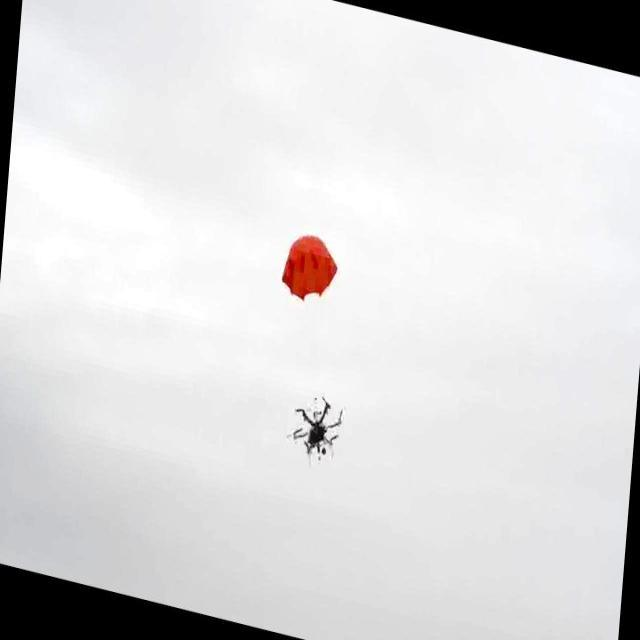drone: (286, 388, 346, 468)
